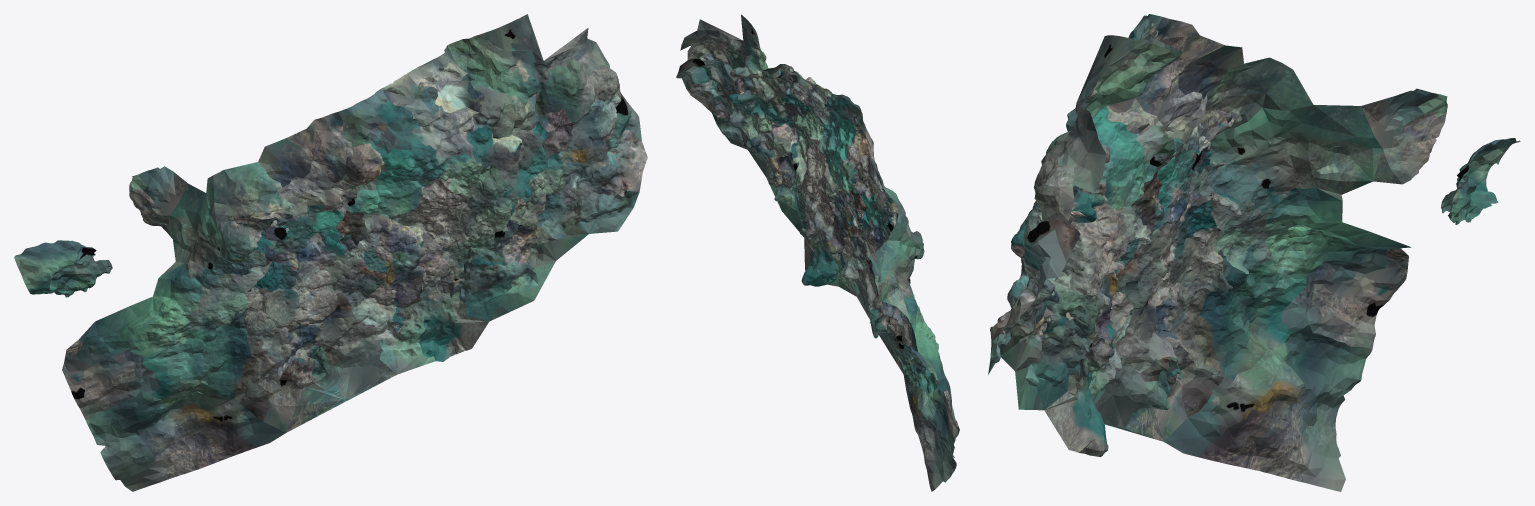
File: ur_full.obj
3 views of the same model, side by side, from view 1: azimuth 30°, elevation 25°; view 2: azimuth 150°, elevation 25°; view 3: azimuth 270°, elevation 25° (orthographic). The views are drawn at different scales.
Bounding box in the file's own units: 85 × 78.99 × 55.56.
